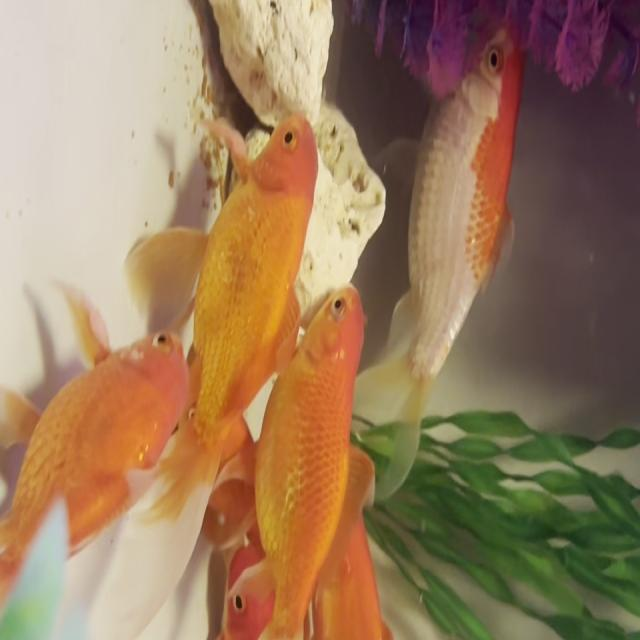fish: (91, 103, 315, 640), (345, 11, 520, 492), (0, 312, 198, 634), (304, 451, 416, 640)
